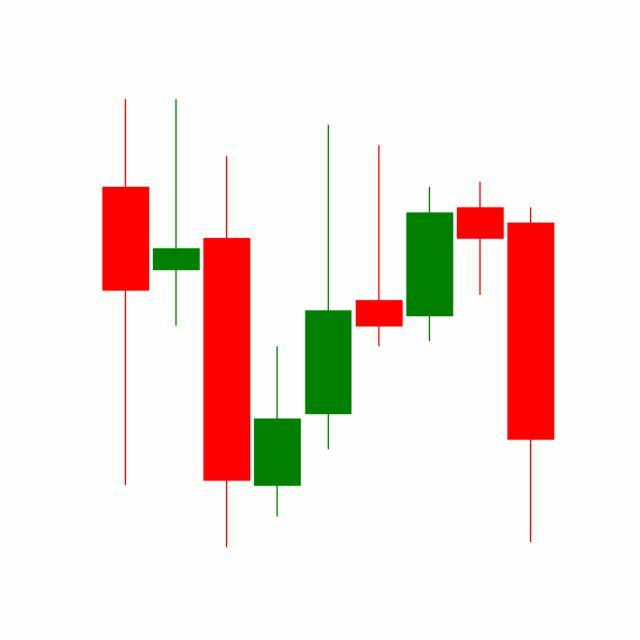Hikkake Pattern: (302, 122, 555, 548)
